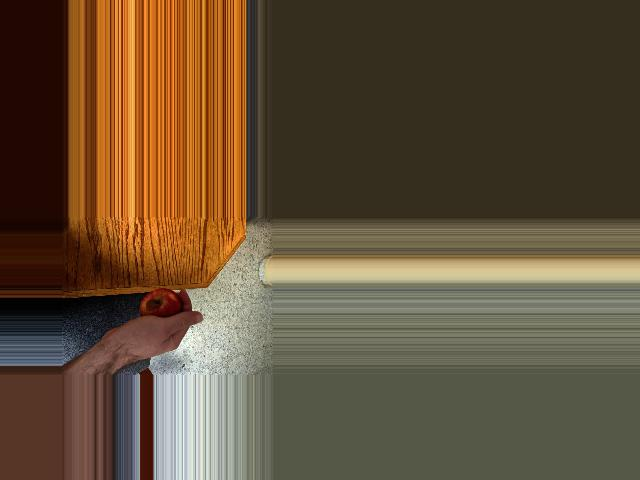apple: (138, 288, 181, 329)
